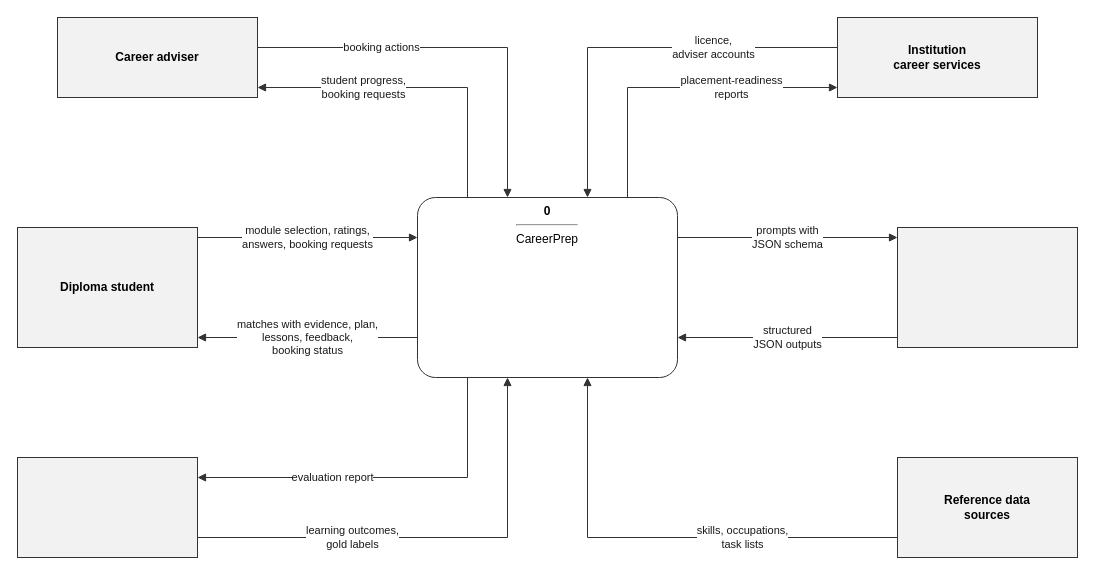
The diagram is 1095 pixels wide and 575 high, and some of its shapes have lost their labels. Each missing label, with the centre of its shape:
"CareerPrep team (data curator)" goes at point 107,507.
"Language-model provider" goes at point 987,287.
